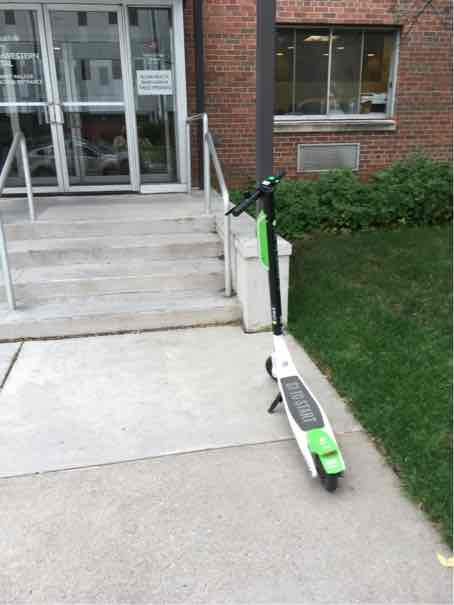scooter: (213, 151, 365, 497)
